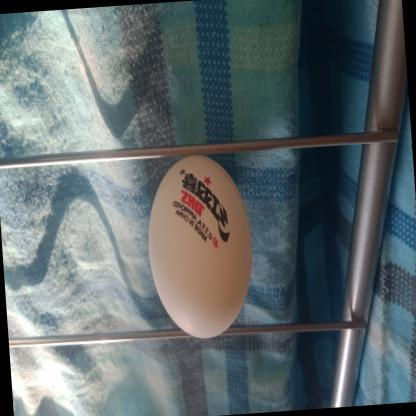Tabel Tennis: (141, 148, 261, 346)
